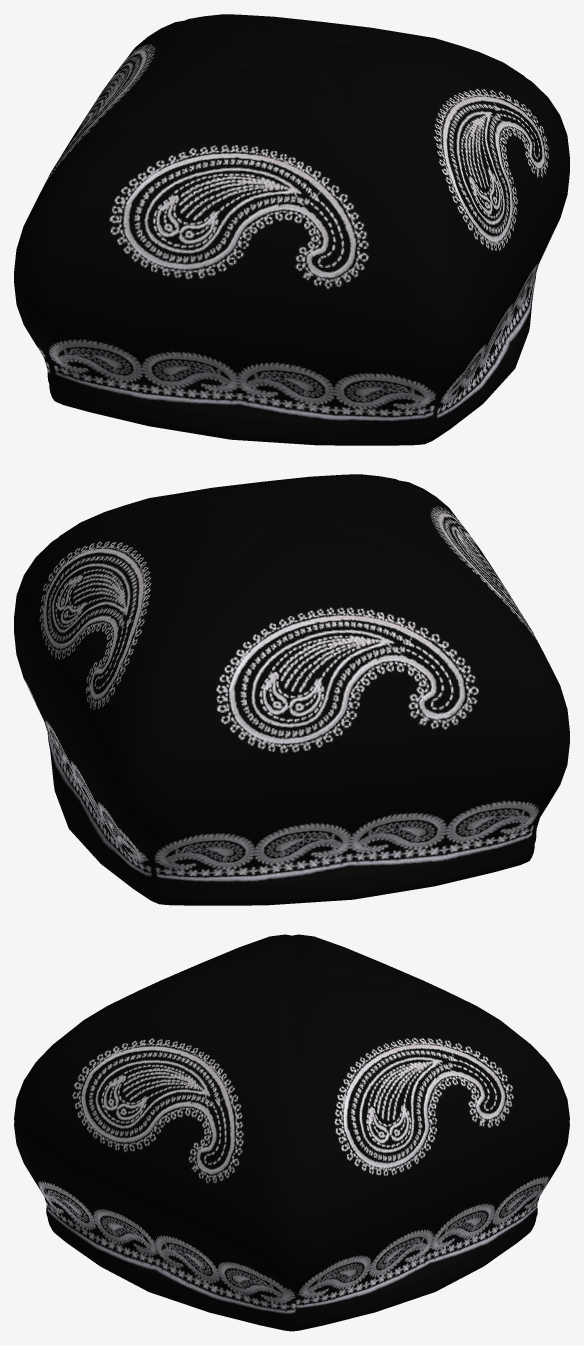
Rendered from uz_doppi.glb.
The picture shows the model from 3 angles, top to bottom: view 1: azimuth 30°, elevation 25°; view 2: azimuth 150°, elevation 25°; view 3: azimuth 270°, elevation 25°; orthographic projection. The views are drawn at different scales.
Parts seen in each view (by area): view 1: doppa_lp; view 2: doppa_lp; view 3: doppa_lp.
Boxes of the visible parts, <box> form: doppa_lp: <box>14,14,569,445</box>; doppa_lp: <box>14,474,569,905</box>; doppa_lp: <box>14,934,569,1331</box>.
Size of the model in its own units: 2.53 by 1.3 by 2.53.
Materials: 1 (1 with a texture image).
